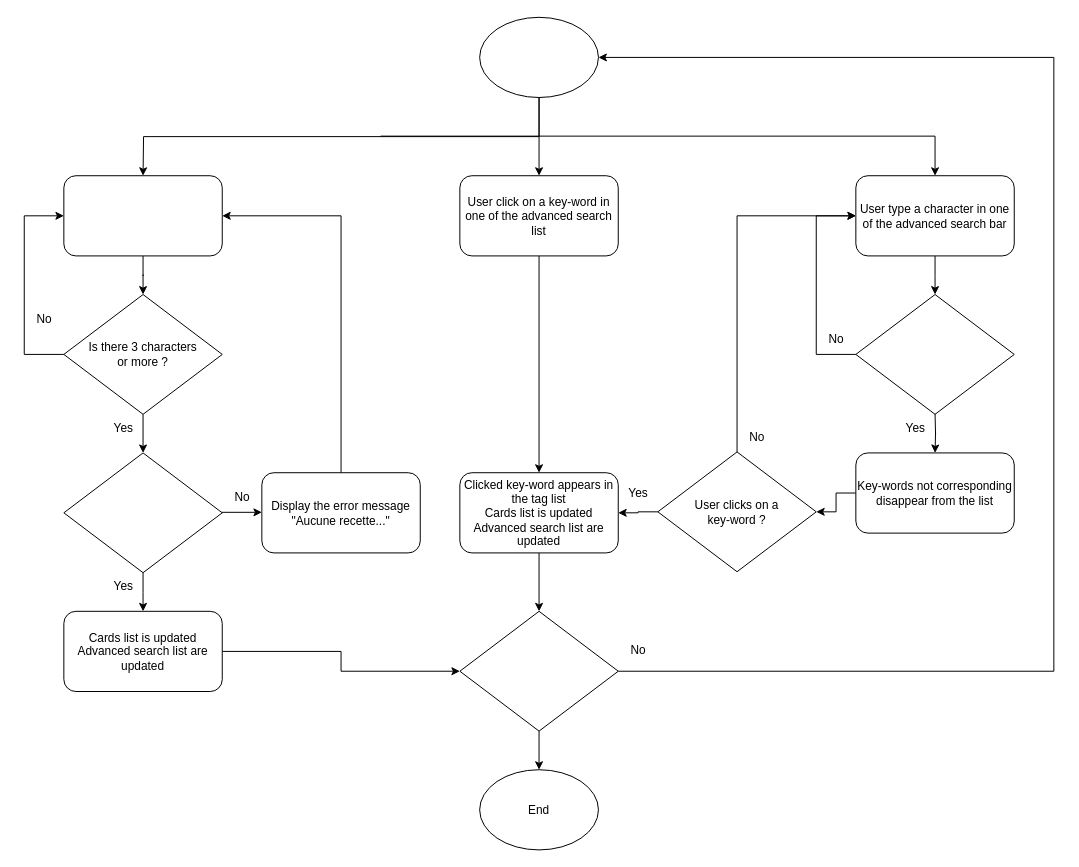
Image size: 1079x867. Some labels were removed from this diagram. The box of each missing label's shape, as (x1, y1, x2, y2) in pixels:
Is there key-words corresponding to the string ?: (63, 452, 222, 573)
Is there key-words not corresponding to the string ?: (855, 294, 1014, 414)
Start: (479, 16, 598, 98)
User clicks on a recipe ?: (459, 610, 618, 731)
User type in the main search bar: (63, 175, 222, 256)
